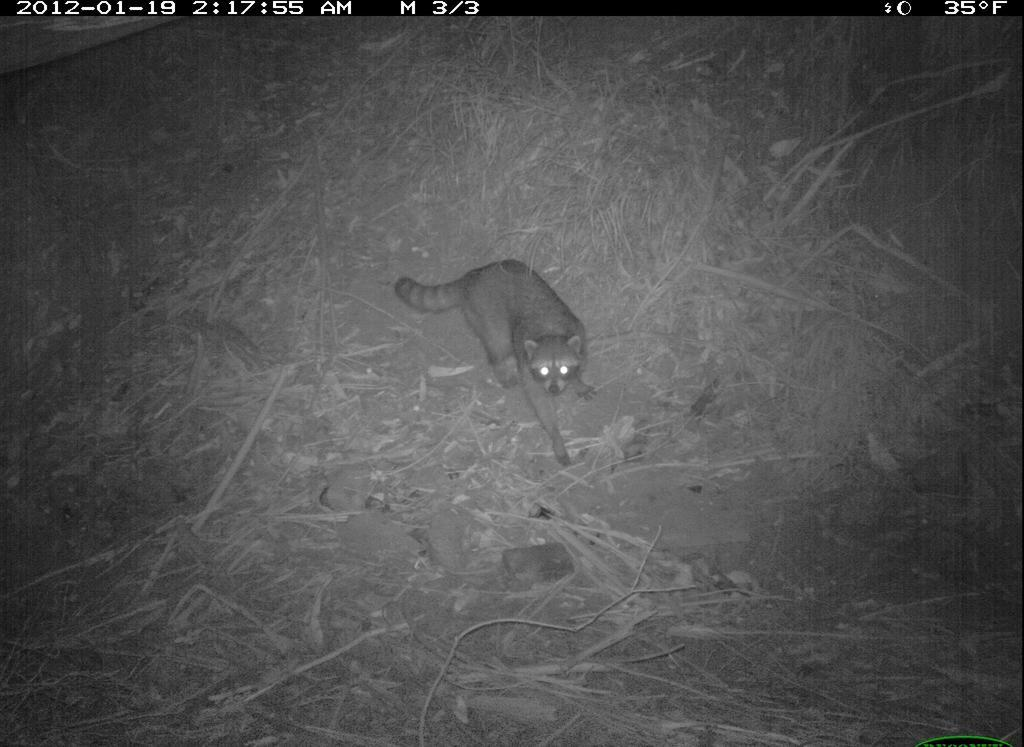raccoon: (396, 262, 610, 470)
